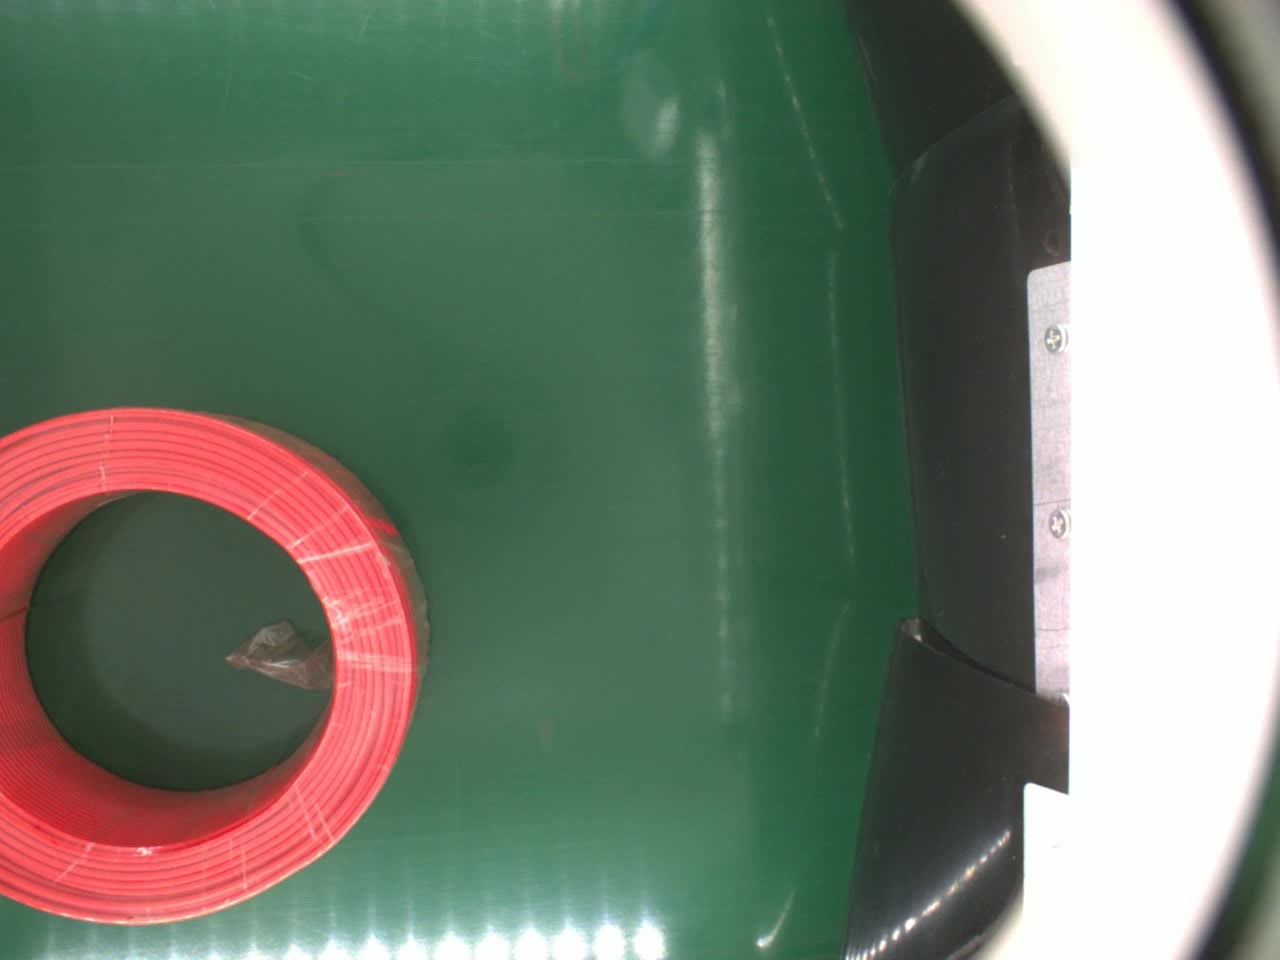red: (0, 401, 428, 932)
